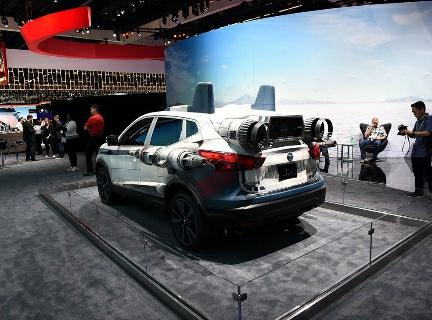car: (82, 74, 347, 252)
